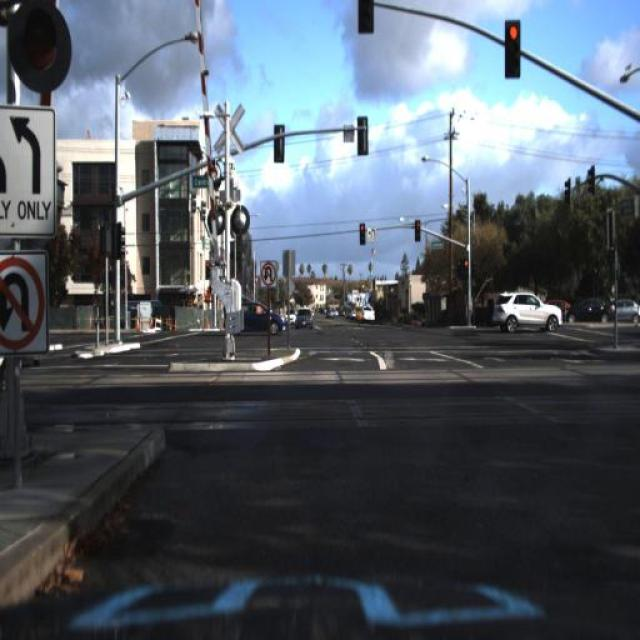car: (485, 280, 564, 338), (223, 296, 299, 340), (556, 293, 622, 329), (558, 294, 614, 327), (293, 305, 315, 336), (281, 306, 295, 336)
trafficLight-Green: (8, 0, 70, 91), (356, 0, 374, 32)
trafficLight-RedLeft: (503, 15, 522, 84), (412, 212, 423, 248), (461, 249, 472, 281), (356, 218, 366, 248)
